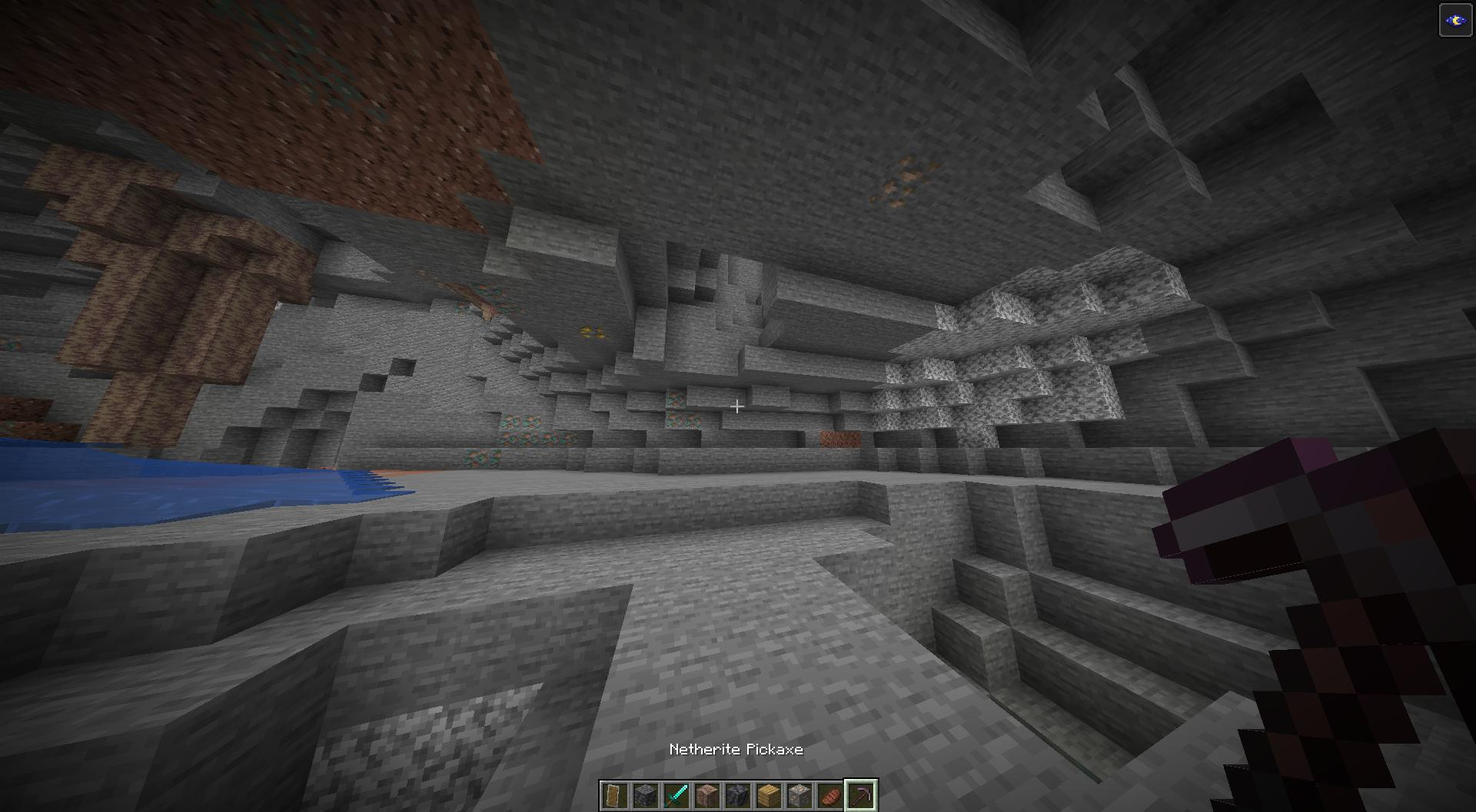iron ore: (865, 154, 937, 212)
